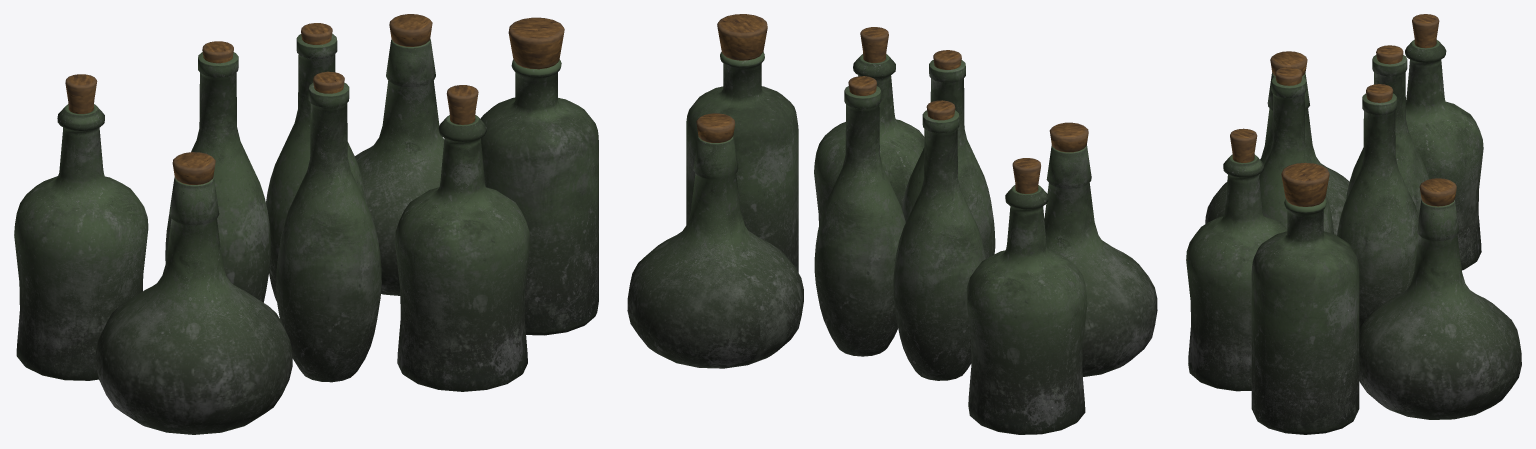
The model's file is Bottle_set_3.fbx.
3 views of the same model, side by side, from view 1: azimuth 30°, elevation 25°; view 2: azimuth 150°, elevation 25°; view 3: azimuth 270°, elevation 25° (orthographic). The views are drawn at different scales.
Parts seen in each view (by area): view 1: Bottle_set_3; view 2: Bottle_set_3; view 3: Bottle_set_3.
Part boxes in pixels (x1,y1,x2,y2): Bottle_set_3: (14,14,598,434); Bottle_set_3: (627,14,1157,434); Bottle_set_3: (1186,14,1521,434).
Size of the model in its own units: 60.76 by 34.31 by 41.46.
